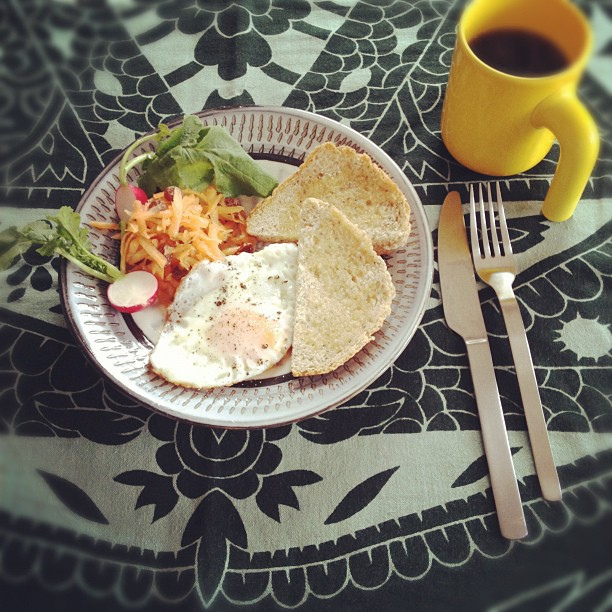chopped lettuce: (118, 119, 285, 201)
fried egg: (135, 237, 296, 381)
slice of bread: (287, 203, 393, 381), (247, 149, 414, 235)
